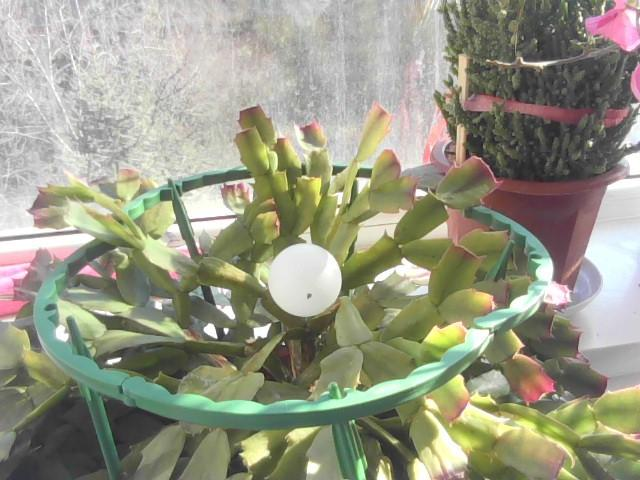ball: (270, 245, 343, 317)
